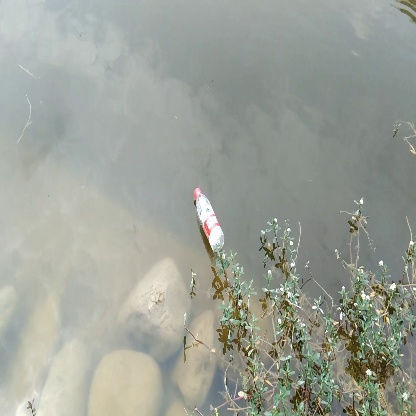bottle: (188, 185, 229, 252)
